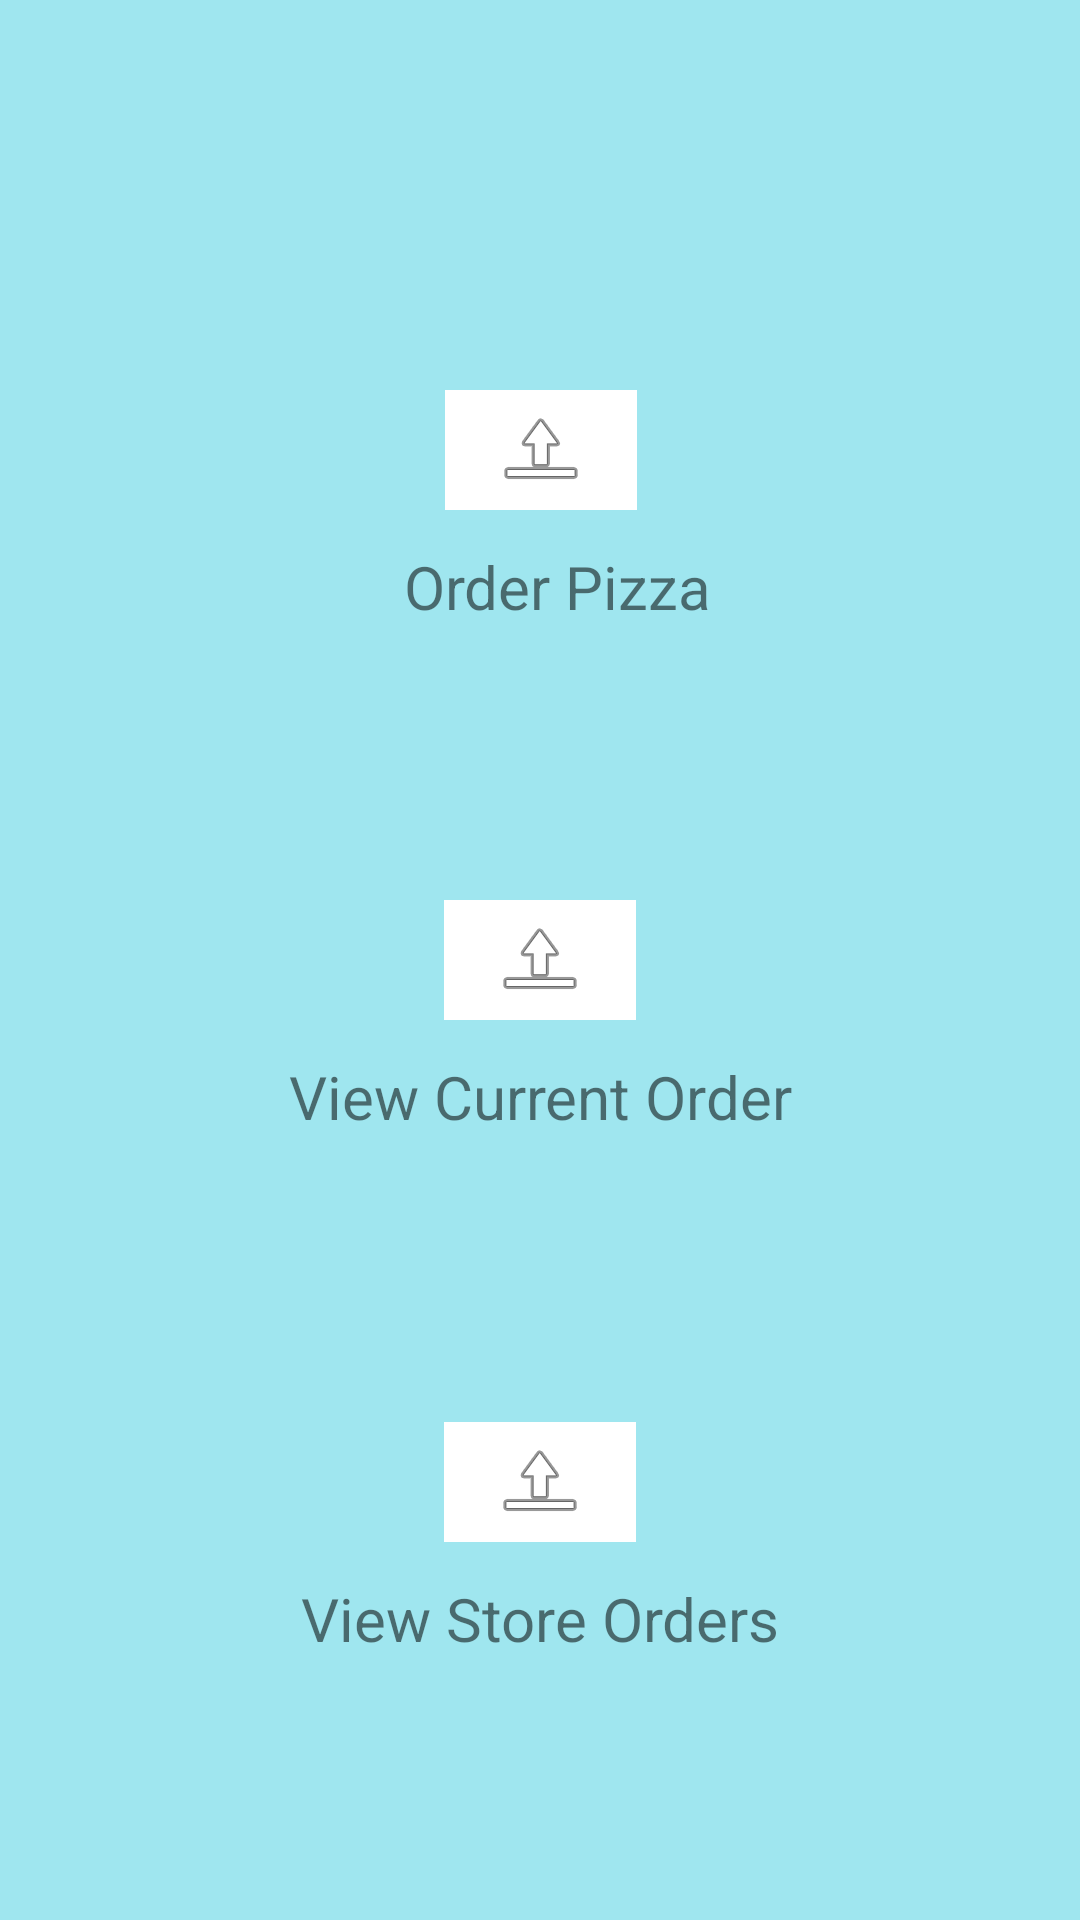

Named icons in this screenshot (1080 × 1920) and their bounding boxes, (x1, y1, x2, y2):
upload: (445, 390, 637, 510), (444, 900, 636, 1020), (444, 1422, 636, 1542)
